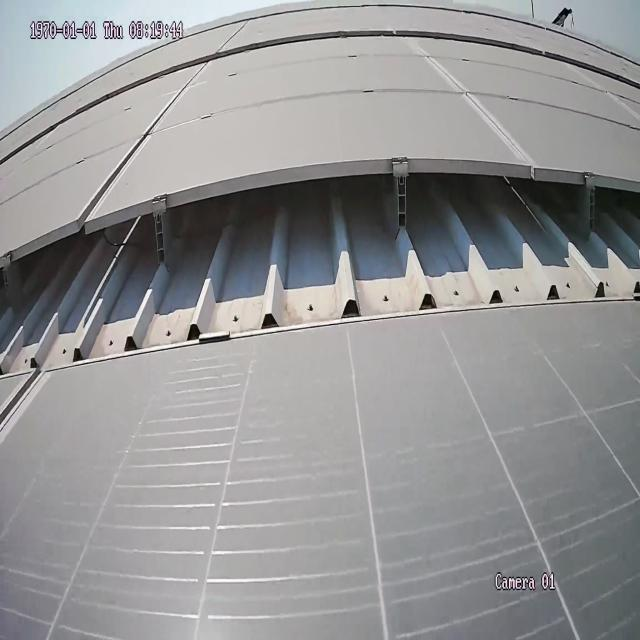interior panel: (76, 69, 203, 217), (405, 41, 543, 163), (0, 381, 42, 442)
outher panel: (0, 162, 640, 381)
